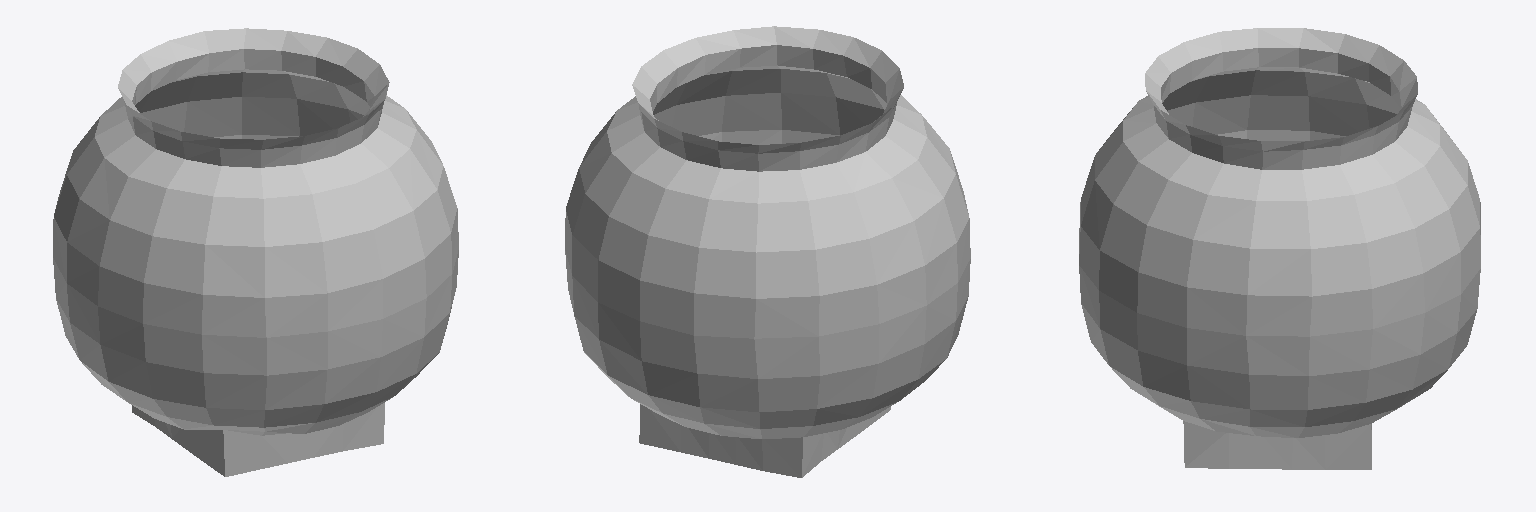
The model's file is bowl.obj.
3 views of the same model, side by side, from view 1: azimuth 30°, elevation 25°; view 2: azimuth 150°, elevation 25°; view 3: azimuth 270°, elevation 25° (orthographic).
Parts seen in each view (by area): view 1: polySurface81; view 2: polySurface81; view 3: polySurface81.
Boxes of the visible parts, box(x1,y1,x2,y2) form: polySurface81: box(53, 28, 458, 476); polySurface81: box(565, 26, 970, 477); polySurface81: box(1079, 28, 1480, 469).
Size of the model in its own units: 14.06 by 13.42 by 14.06.